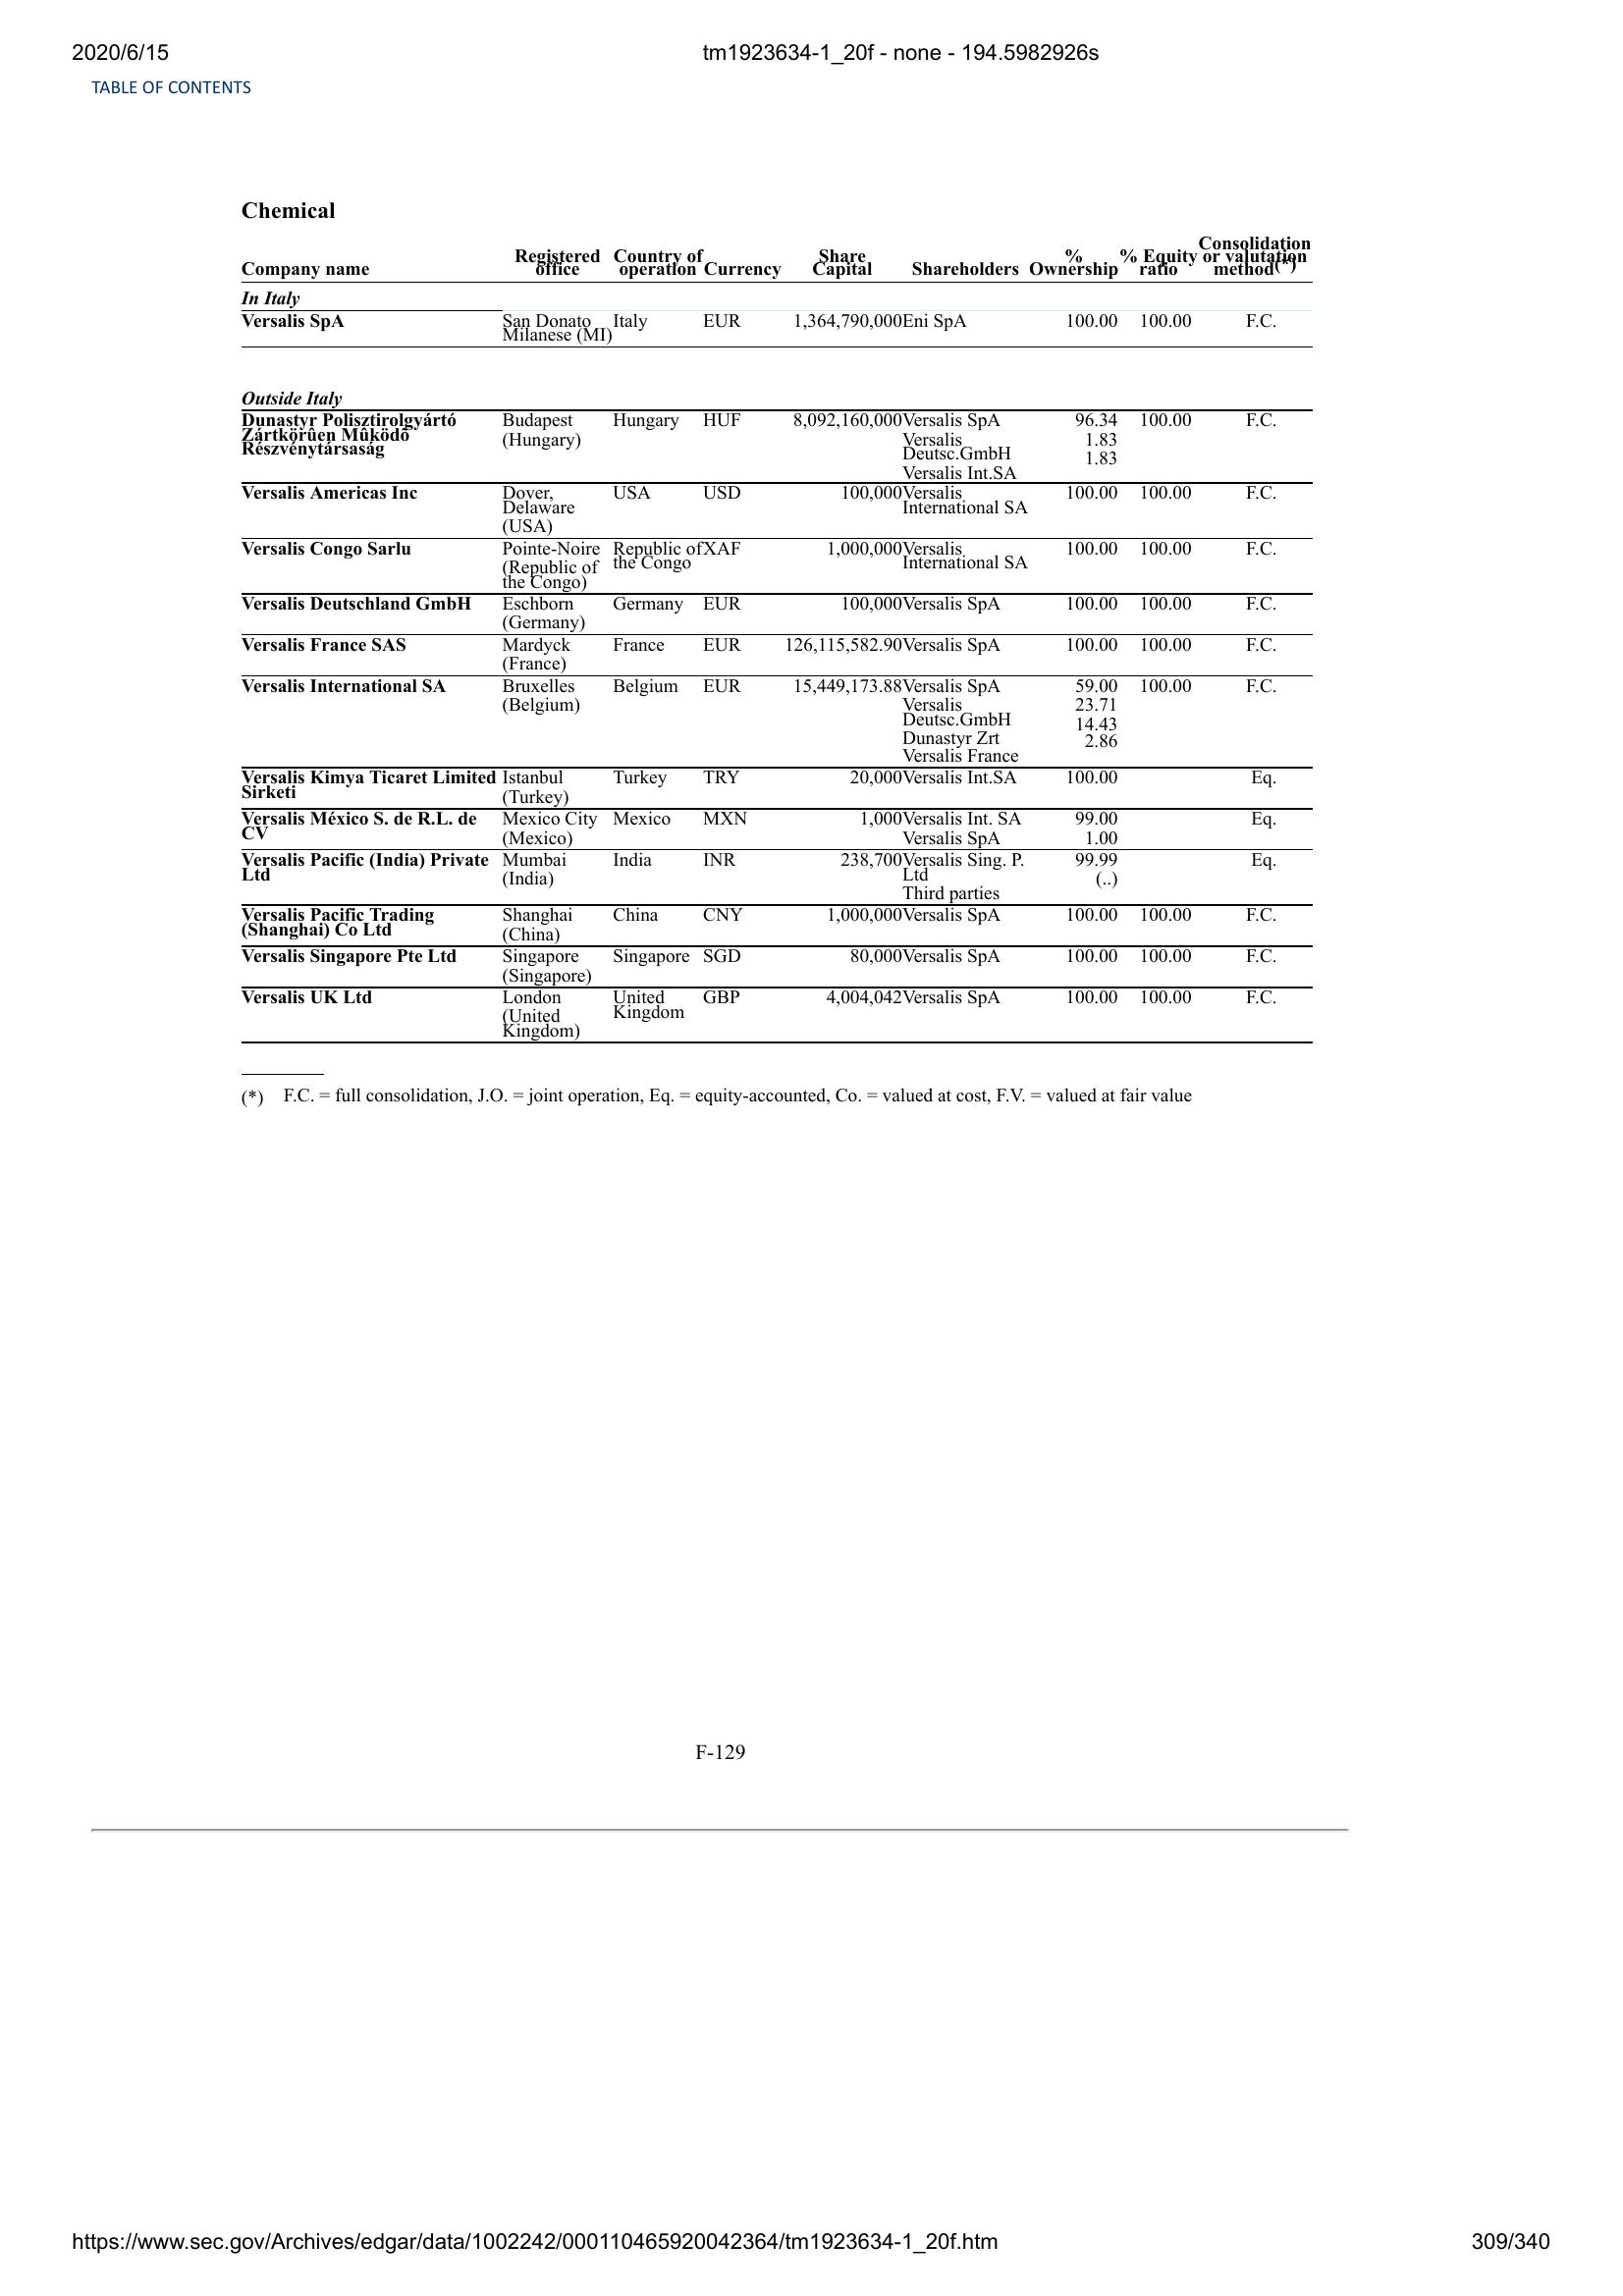table: (242, 228, 1323, 1057)
